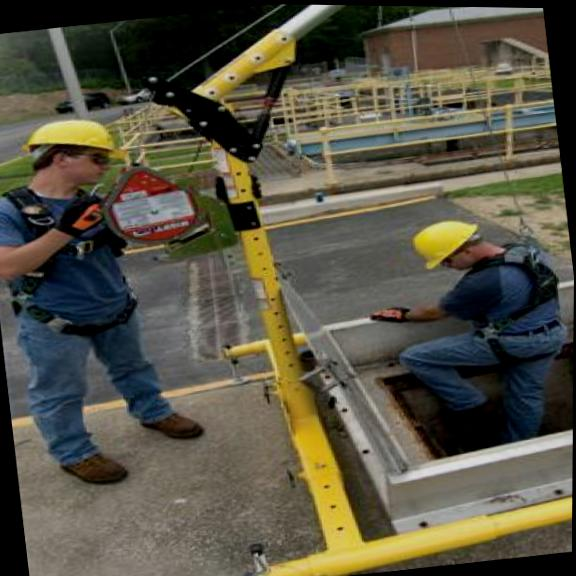no_safety_vest: (0, 179, 150, 328)
